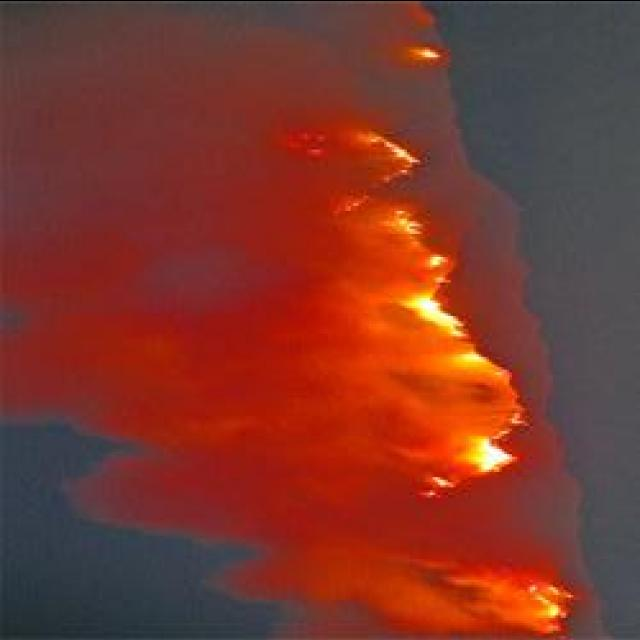fire: (403, 290, 465, 333), (470, 438, 514, 470), (538, 596, 564, 619)
smoke: (1, 146, 253, 446), (5, 0, 333, 202), (59, 444, 284, 537), (197, 540, 440, 611), (309, 266, 394, 418), (394, 346, 466, 480), (429, 553, 527, 638), (278, 90, 380, 162)
